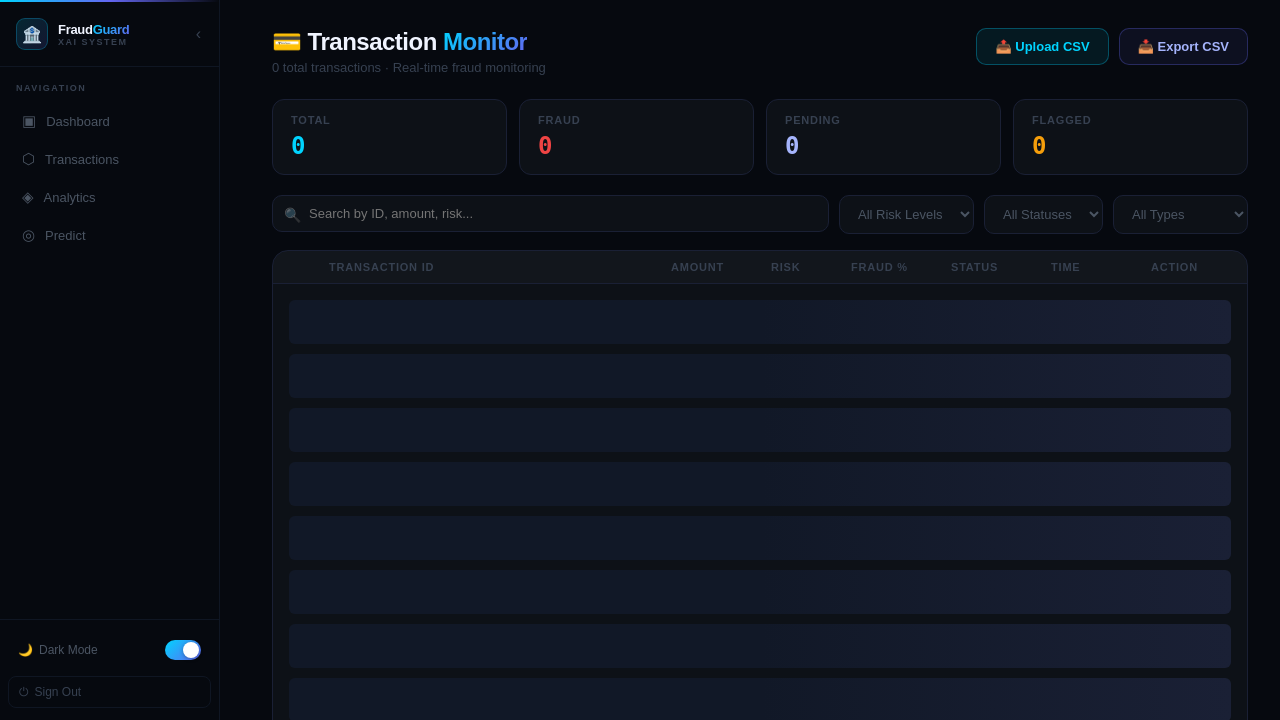
Pagination and Filter Race Condition Safeguards (app/page.tsx) › discards stale out-of-order responses so older requests do not overwrite newer results
The width and height of the screenshot is (1280, 720).
User switches filter, triggering request 2
Select "🔴 HIGH" in the 1st dropdown at (906, 214), box [839,195,974,234]
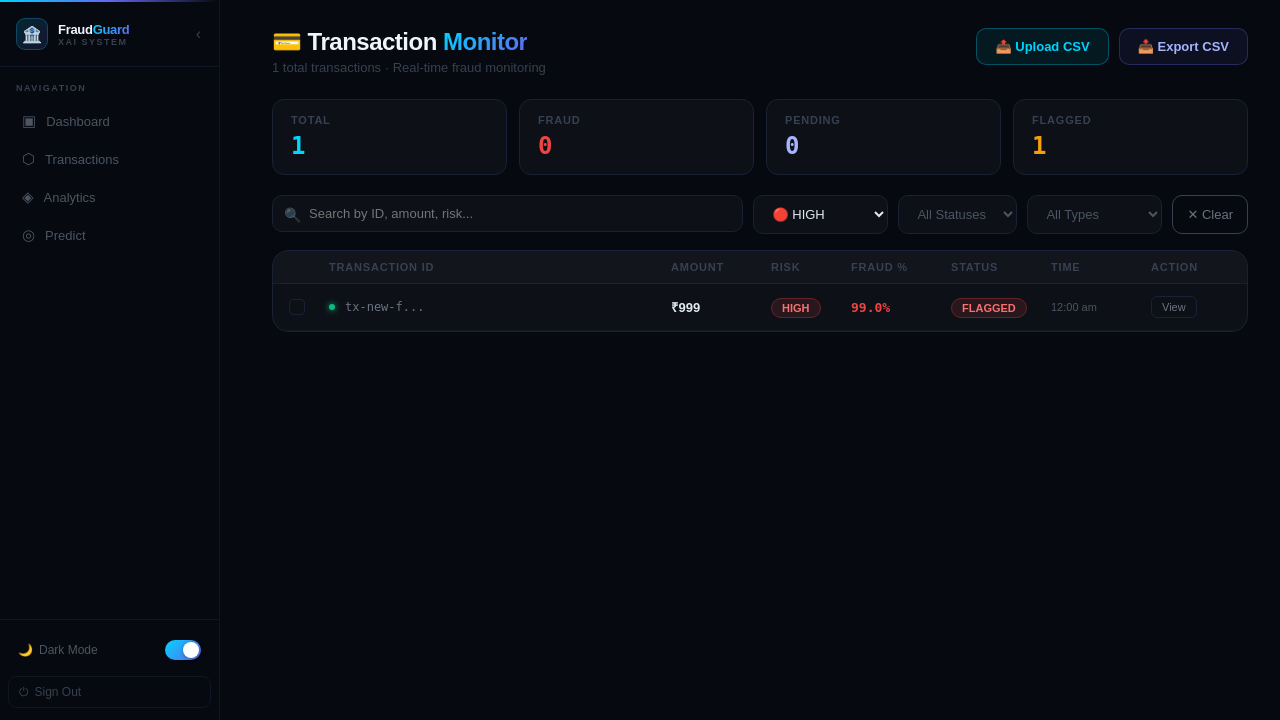
expect the text "tx-new-f..." is shown: met, box [345,300,424,314]
